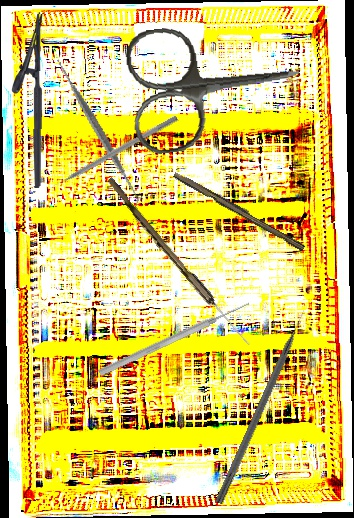Hook Surgical: (215, 308, 310, 506)
Iris Scissors: (122, 12, 308, 157)
Needle Holder: (9, 11, 45, 189)
Pusher: (97, 298, 252, 379), (45, 113, 179, 193)
Scalpel Handle: (171, 169, 308, 252)
Spatula Surgical: (18, 51, 178, 210)
Surgical Spoon: (103, 177, 254, 348)
